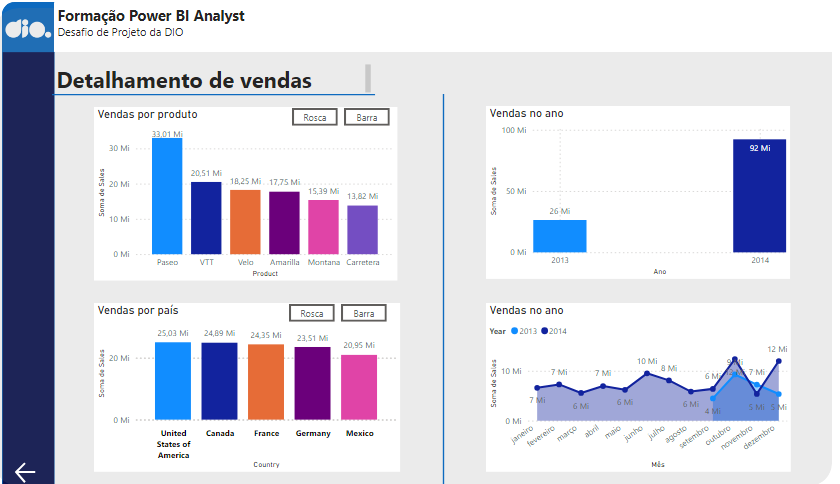

This screenshot's page, from the dashboard's own definition file:
{"tool":"powerbi","page":{"name":"Página 3","canvas":[1280,720],"ordinal":2},"visuals":[{"type":"shape","box":[10.1,13.4,77.2,706.3],"z":0},{"type":"shape","box":[83.9,127.8,473,37.1],"z":0,"group":"g1"},{"type":"shape","box":[10,11.8,77.3,73.6],"z":1000},{"type":"textbox","box":[85.3,97.6,470.2,52.2],"z":1000,"group":"g1"},{"type":"image","title":"logo_dio","box":[10.1,18.5,77.2,62.1],"z":2000},{"type":"shape","box":[0,20,1225,700],"z":3000},{"type":"shape","title":"Fundo do Título","box":[86.7,11.7,1193.3,73.3],"z":4000},{"type":"textbox","box":[86.7,11.7,325,66.7],"z":5000},{"type":"actionButton","box":[25,680,61.7,40],"z":6000},{"type":"group","id":"g1","title":"Sales report","box":[83.9,97.6,473,67.4],"z":7000},{"type":"shape","box":[506.7,146.7,300,573.3],"z":8000},{"type":"lineChart","title":"Vendas no ano","fields":{"Category":["financials.Date.Variation.Hierarquia de datas.Ano","financials.Date.Variation.Hierarquia de datas.Trimestre","financials.Date.Variation.Hierarquia de datas.Mês","financials.Date.Variation.Hierarquia de datas.Dia"],"Y":["Sum(financials. Sales)"],"Series":["financials.Year"]},"box":[718.5,452.2,446.3,247.3],"z":11000},{"type":"columnChart","title":"Vendas no ano","fields":{"Category":["financials.Date.Variation.Hierarquia de datas.Ano","financials.Date.Variation.Hierarquia de datas.Trimestre","financials.Date.Variation.Hierarquia de datas.Mês","financials.Date.Variation.Hierarquia de datas.Dia"],"Y":["Sum(financials. Sales)"]},"box":[718.5,163.9,444.9,253.2],"z":12000},{"type":"group","id":"g2","title":"Grupo vendas por país","box":[145,451.7,448.3,248.3],"z":12500},{"type":"group","id":"g3","title":"Grupo vendas por produto","box":[145.6,165.6,445.9,254.4],"z":13000},{"type":"columnChart","title":"Vendas por produto","fields":{"Y":["Sum(financials. Sales)"],"Category":["financials.Product"]},"box":[145.6,165.6,444.4,254.4],"z":13250,"group":"g3"},{"type":"actionButton","title":"Botão rosca produtos","box":[435,167,67,26],"z":13500,"group":"g3"},{"type":"actionButton","title":"Botão barra produto","box":[512,167,67,26],"z":13750,"group":"g3"},{"type":"columnChart","title":"Vendas por país","fields":{"Category":["financials.Country"],"Y":["Sum(financials. Sales)"]},"box":[145,451.7,448.3,246.7],"z":14500,"group":"g2"},{"type":"actionButton","title":"Botão rosca país","box":[430,453,67,26],"z":15000,"group":"g2"},{"type":"actionButton","title":"Botão barra país","box":[507,453,67,26],"z":16000,"group":"g2"}]}

Visuals, with their boxes on the page's 1280x720 design canvas (x1, y1, x2, y2). These are canvas units, not pixel positions in the 840x484 screenshot, which may show the page scaled, cropped or inside an application window:
shape: [10, 13, 87, 720]
shape: [84, 128, 557, 165]
shape: [10, 12, 87, 85]
textbox: [85, 98, 556, 150]
"logo_dio" image: [10, 18, 87, 81]
shape: [0, 20, 1225, 720]
"Fundo do Título" shape: [87, 12, 1280, 85]
textbox: [87, 12, 412, 78]
actionButton: [25, 680, 87, 720]
"Sales report" group: [84, 98, 557, 165]
shape: [507, 147, 807, 720]
"Vendas no ano" lineChart: [718, 452, 1165, 700]
"Vendas no ano" columnChart: [718, 164, 1163, 417]
"Grupo vendas por país" group: [145, 452, 593, 700]
"Grupo vendas por produto" group: [146, 166, 592, 420]
"Vendas por produto" columnChart: [146, 166, 590, 420]
"Botão rosca produtos" actionButton: [435, 167, 502, 193]
"Botão barra produto" actionButton: [512, 167, 579, 193]
"Vendas por país" columnChart: [145, 452, 593, 698]
"Botão rosca país" actionButton: [430, 453, 497, 479]
"Botão barra país" actionButton: [507, 453, 574, 479]
